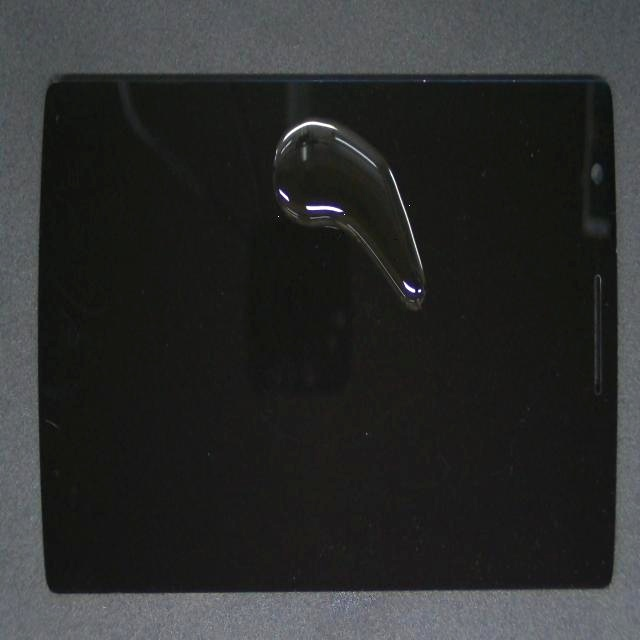oil: (210, 71, 501, 189)
